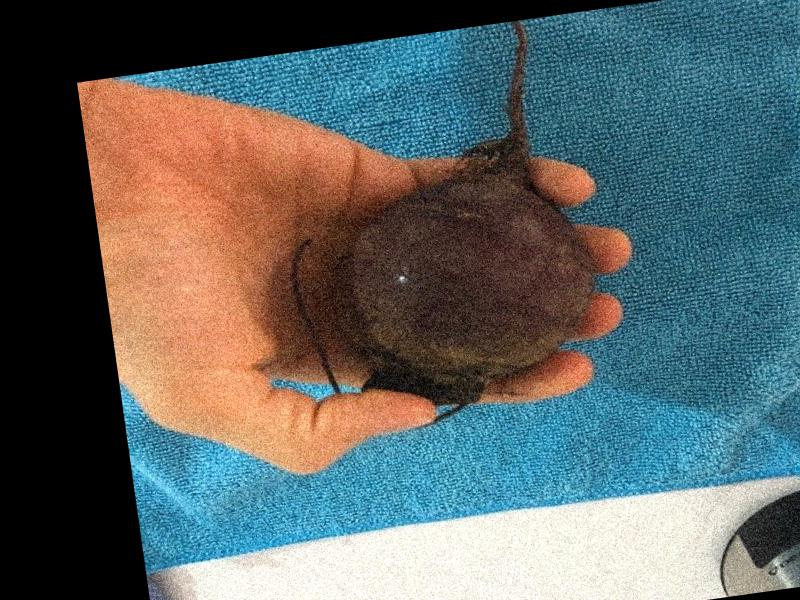Beet: (261, 14, 613, 441)
